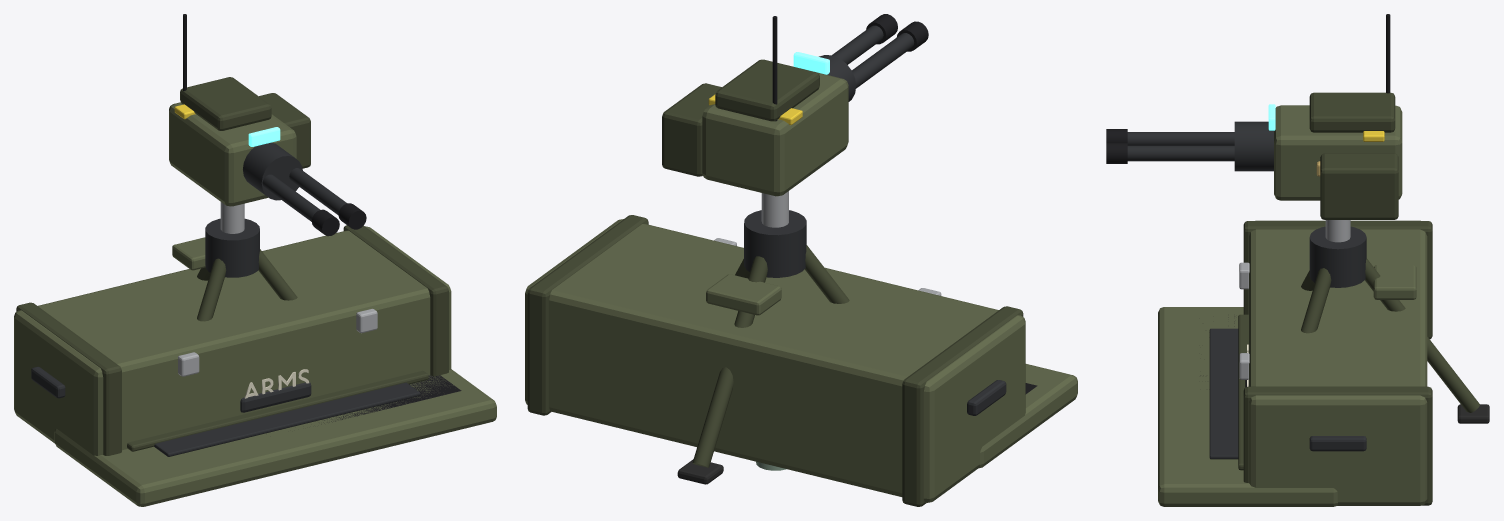
Rendered from gear.glb.
3 views of the same model, side by side, from view 1: azimuth 30°, elevation 25°; view 2: azimuth 150°, elevation 25°; view 3: azimuth 270°, elevation 25° (orthographic). The views are drawn at different scales.
Visible parts, largest first — view 1: crate_base, crate_lid, sentry_head, sentry_base, case_lid, case_base; view 2: crate_base, sentry_head, sentry_base, crate_lid; view 3: crate_base, sentry_head, crate_lid, sentry_base, case_lid.
Part boxes in pixels (bbox=[...]): crate_base: bbox=[14, 225, 451, 455]; crate_lid: bbox=[54, 369, 496, 506]; sentry_head: bbox=[169, 14, 366, 236]; sentry_base: bbox=[172, 202, 297, 321]; case_lid: bbox=[154, 375, 461, 456]; case_base: bbox=[240, 382, 311, 412]; crate_base: bbox=[525, 215, 1025, 506]; sentry_head: bbox=[662, 14, 928, 196]; sentry_base: bbox=[677, 191, 849, 484]; crate_lid: bbox=[978, 364, 1077, 468]; crate_base: bbox=[1239, 220, 1432, 505]; sentry_head: bbox=[1106, 14, 1402, 219]; crate_lid: bbox=[1158, 307, 1337, 506]; sentry_base: bbox=[1301, 220, 1489, 423]; case_lid: bbox=[1200, 316, 1238, 459].
Size of the model in its own units: 1.27 by 1.32 by 1.07.
